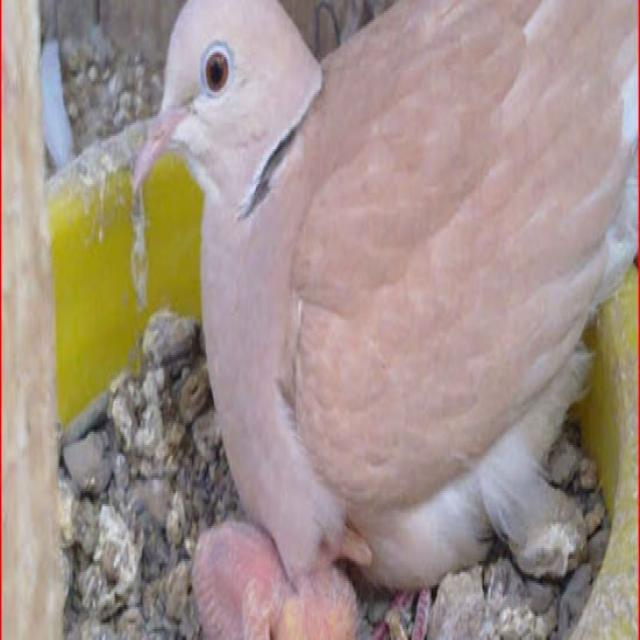bird: (130, 0, 640, 610)
